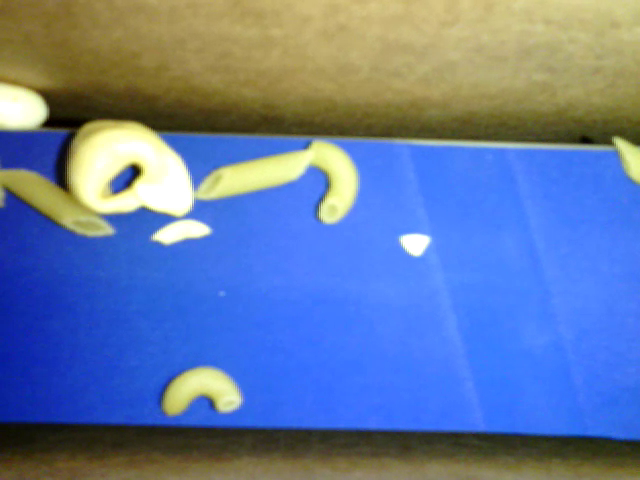elbow: (305, 138, 360, 225), (161, 365, 242, 416)
penne: (1, 166, 117, 236), (196, 148, 314, 200), (611, 136, 639, 183)
tortellini: (67, 119, 193, 217)
